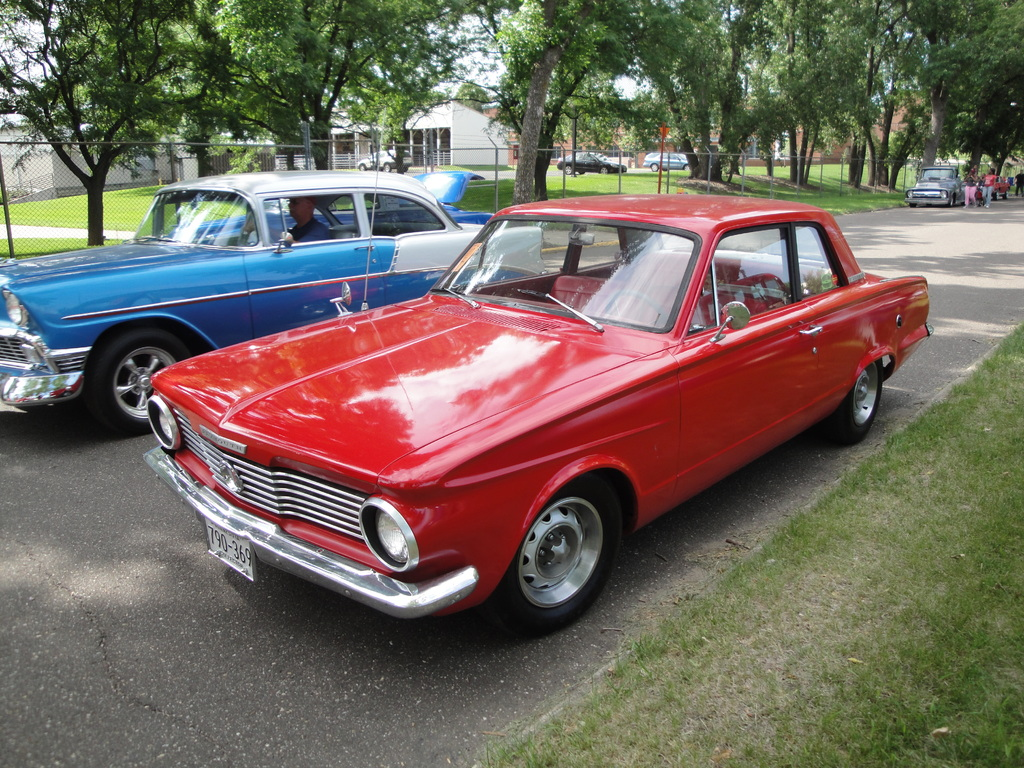cars: (145, 192, 936, 632), (0, 166, 548, 438), (909, 163, 964, 210), (555, 153, 631, 176), (357, 149, 412, 171), (980, 174, 1012, 201), (644, 153, 688, 172)
